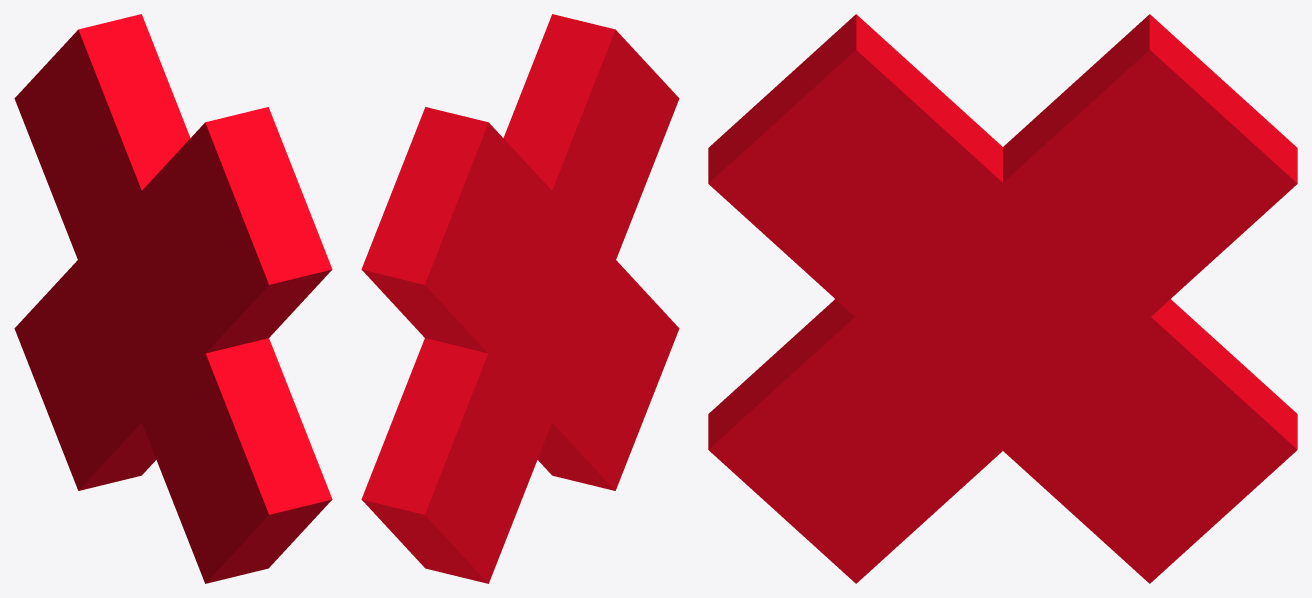
Rendered from cross 1.fbx.
The picture shows the model from 3 angles, left to right: view 1: azimuth 30°, elevation 25°; view 2: azimuth 150°, elevation 25°; view 3: azimuth 270°, elevation 25°; orthographic projection. The views are drawn at different scales.
Visible parts, largest first — view 1: Cube; view 2: Cube; view 3: Cube.
Boxes of the visible parts, x1,y1,x2,y2 form: Cube: (14, 14, 332, 583); Cube: (361, 14, 679, 583); Cube: (708, 14, 1297, 583).
Size of the model in its own units: 0.8092 by 5.64 by 5.64.
